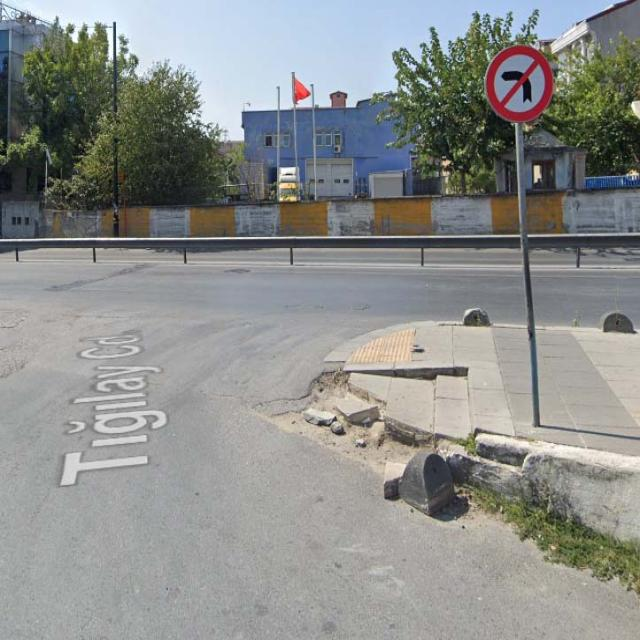soladonulmez: (484, 45, 554, 122)
